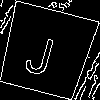J: (22, 25, 61, 77)
